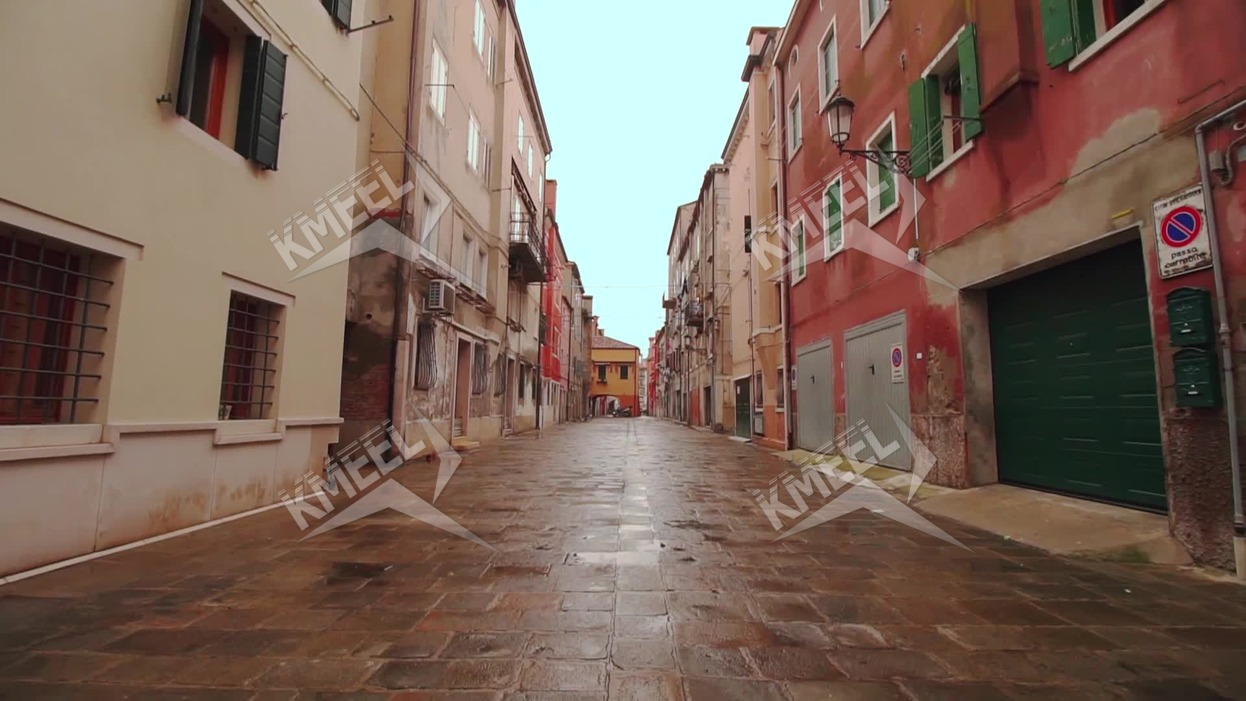strada: (52, 414, 1180, 701)
